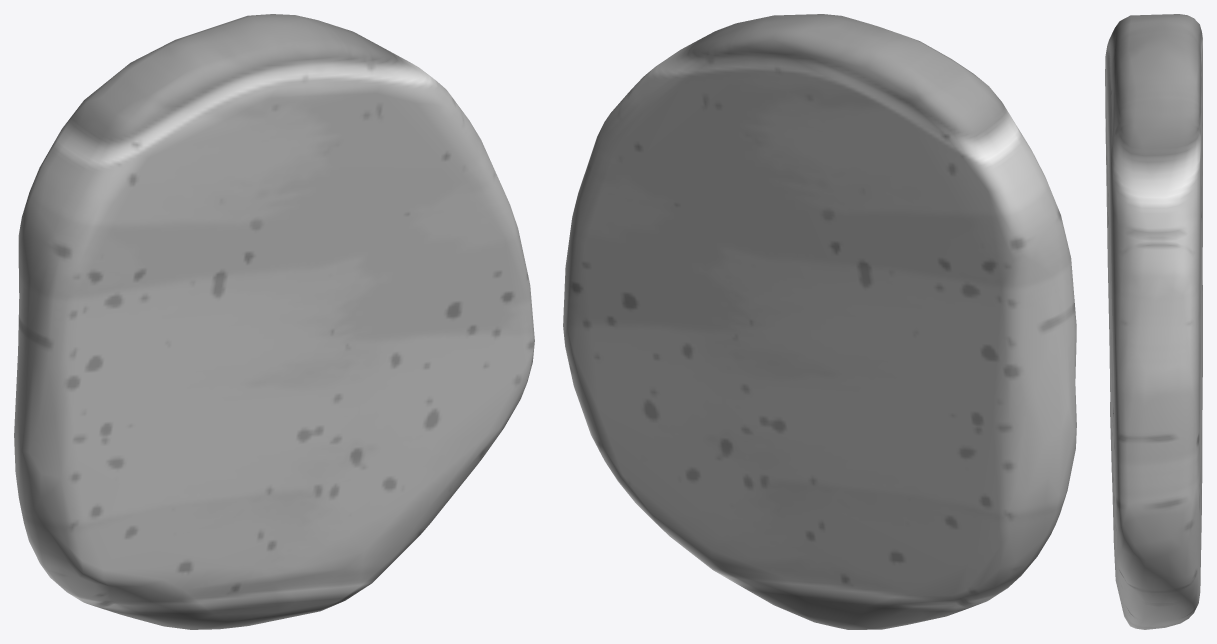
File: SM_UI_BGLoading.fbx
3 renders of one model, left to right at view 1: azimuth 30°, elevation 25°; view 2: azimuth 150°, elevation 25°; view 3: azimuth 270°, elevation 25°, orthographic. The views are drawn at different scales.
Visible parts, largest first — view 1: SM_UI_BGloading_Picto; view 2: SM_UI_BGloading_Picto; view 3: SM_UI_BGloading_Picto.
Boxes of the visible parts, x1,y1,x2,y2 form: SM_UI_BGloading_Picto: (14,14,534,629); SM_UI_BGloading_Picto: (563,14,1076,629); SM_UI_BGloading_Picto: (1105,14,1202,629).
Bounding box in the file's own units: 29.05 × 32.92 × 5.2.
